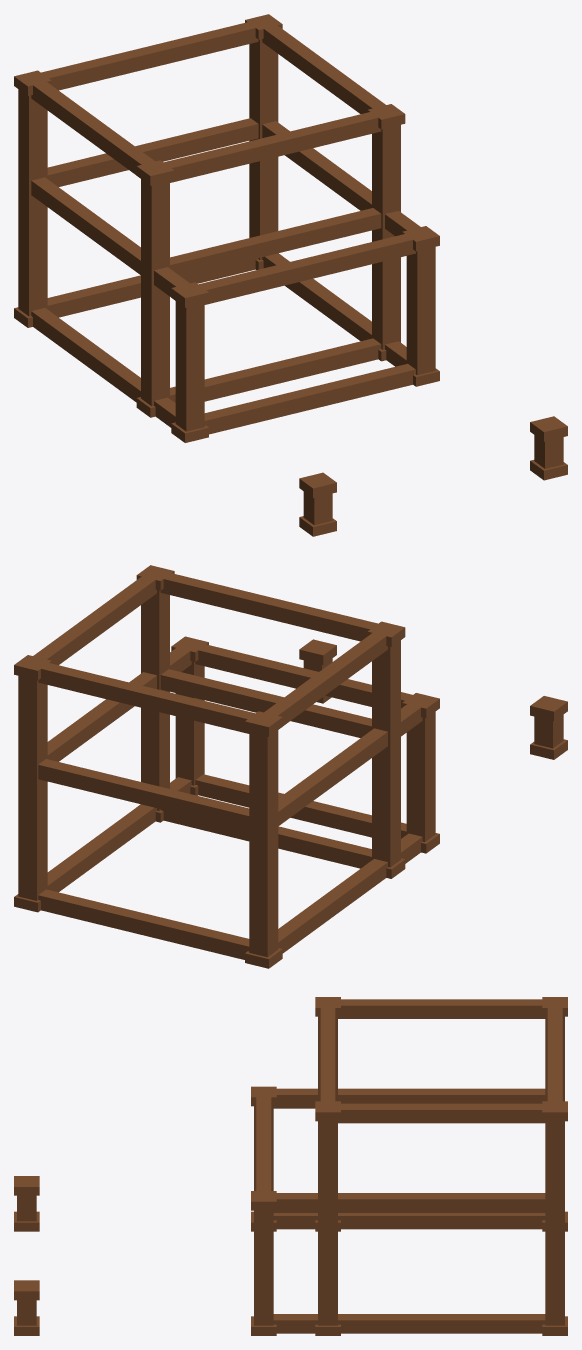
File: House2.obj
The picture shows the model from 3 angles, top to bottom: view 1: azimuth 30°, elevation 25°; view 2: azimuth 150°, elevation 25°; view 3: azimuth 270°, elevation 25°; orthographic projection. The views are drawn at different scales.
Parts seen in each view (by area): view 1: Pillar.001; view 2: Pillar.001; view 3: Pillar.001.
Part boxes in pixels (x1,y1,x2,y2): Pillar.001: (14, 14, 567, 536); Pillar.001: (14, 565, 567, 968); Pillar.001: (14, 997, 567, 1335).
Size of the model in its own units: 55.2 by 50 by 112.
1 material, 1 textured.
